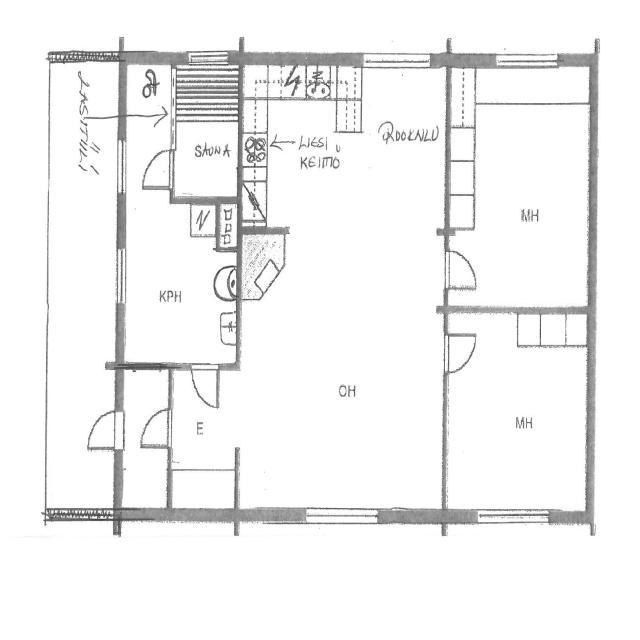door: (174, 358, 234, 507), (441, 241, 483, 294), (81, 404, 127, 452), (138, 402, 174, 453), (441, 328, 479, 374), (189, 361, 222, 413), (141, 146, 176, 190)
window: (468, 502, 552, 540), (300, 501, 384, 534), (490, 47, 564, 76), (360, 49, 436, 72), (111, 241, 130, 310), (113, 134, 130, 198), (185, 48, 229, 66), (340, 58, 355, 70)
zone: (240, 64, 447, 522), (447, 59, 594, 310), (445, 310, 591, 512), (118, 197, 240, 366), (170, 366, 238, 516), (172, 87, 242, 199), (172, 58, 242, 123), (125, 58, 172, 116), (241, 230, 284, 290), (218, 200, 240, 250), (336, 64, 361, 98)
